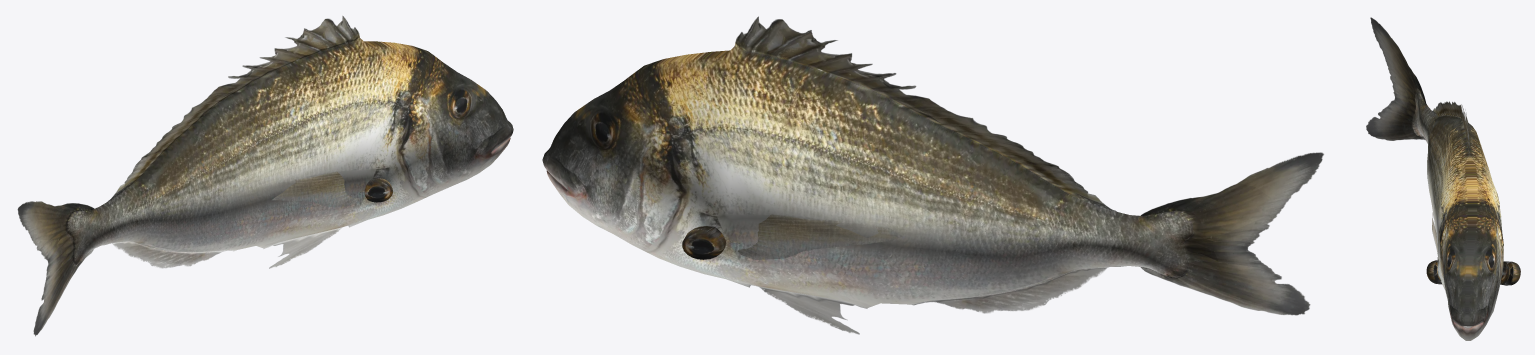
Rendered from bream.glb.
3 views of the same model, side by side, from view 1: azimuth 30°, elevation 25°; view 2: azimuth 150°, elevation 25°; view 3: azimuth 270°, elevation 25° (orthographic). The views are drawn at different scales.
Visible parts, largest first — view 1: Circle.001_0.001; view 2: Circle.001_0.001; view 3: Circle.001_0.001.
Part boxes in pixels (box(x1,y1,x2,y2)): Circle.001_0.001: box(17, 16, 513, 336); Circle.001_0.001: box(542, 16, 1323, 334); Circle.001_0.001: box(1366, 17, 1520, 340).
Bounding box in the file's own units: 1 × 0.4081 × 0.2941.
1 material, 1 textured.
